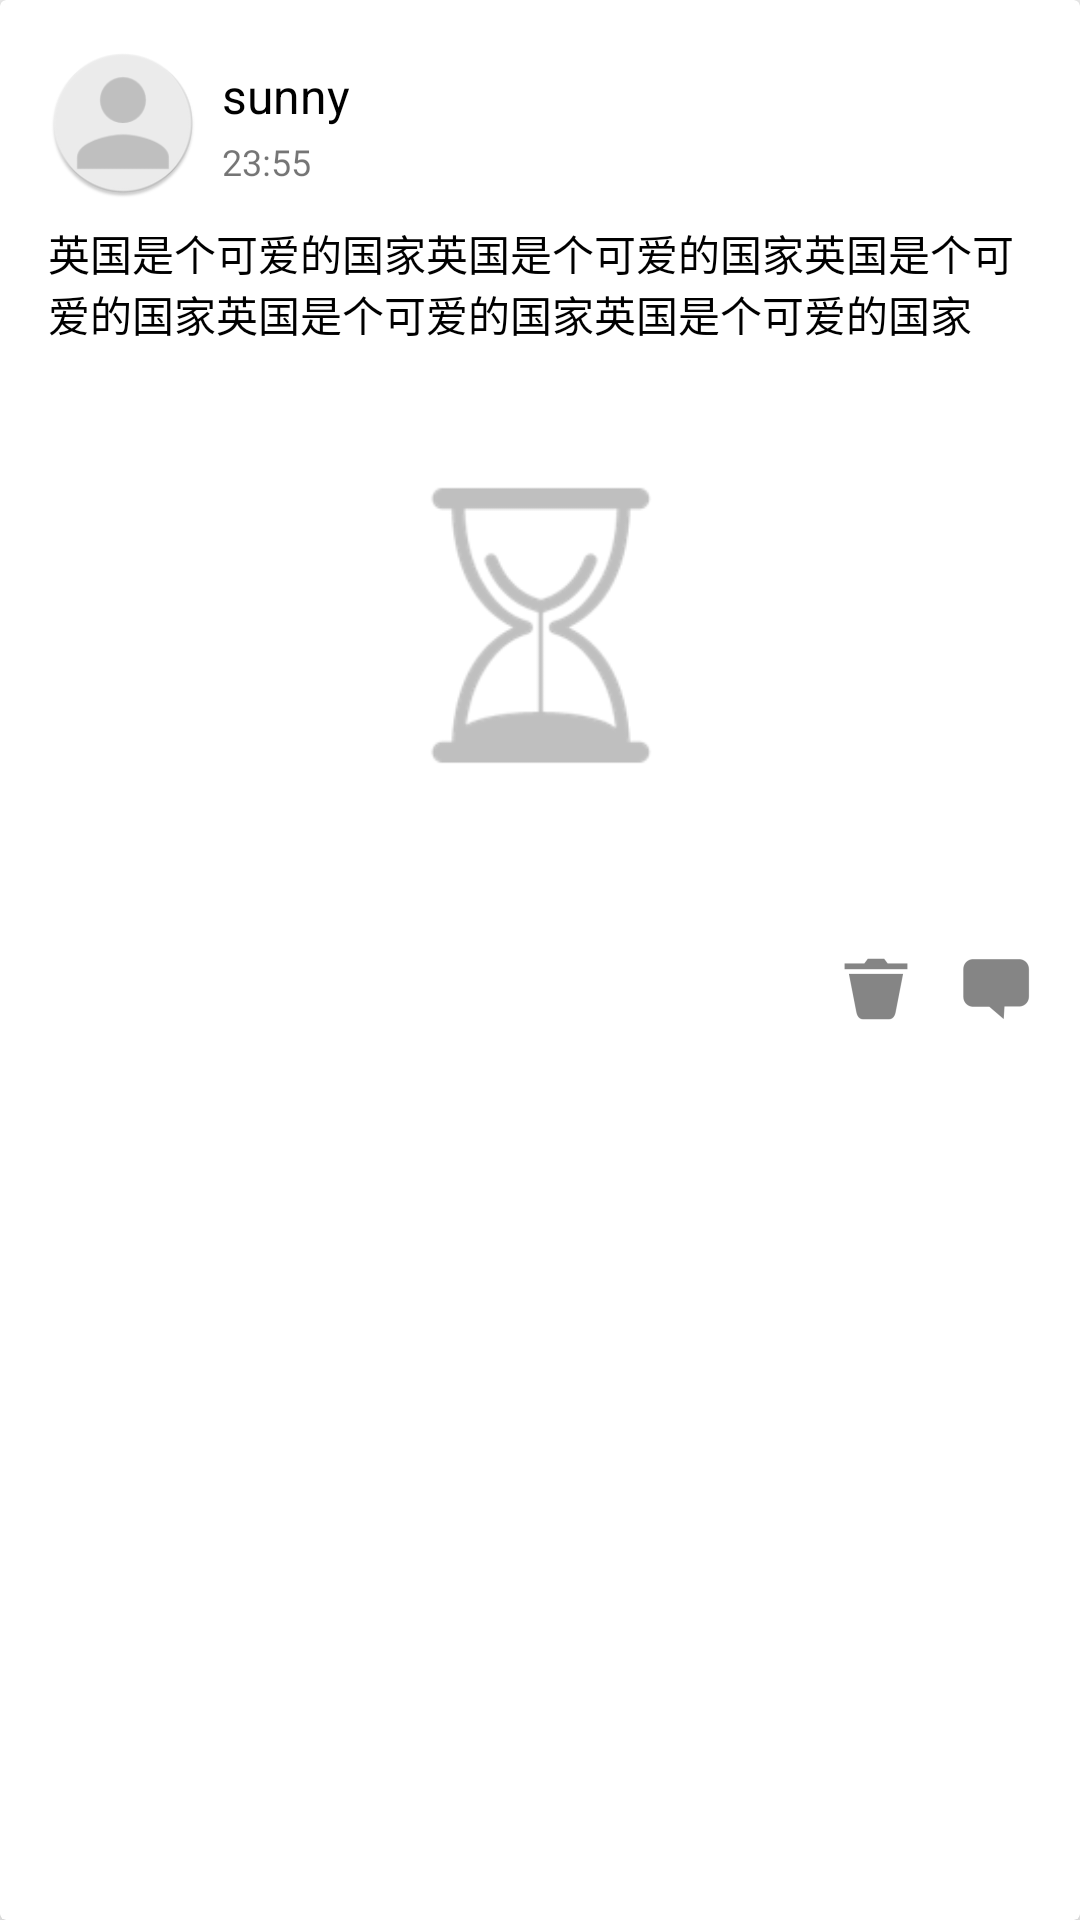

Where to tap for icons on this 1080x1920 app screen, as [x,y]:
delete: [876,989]
discuss: [996,989]
user: [123,125]
